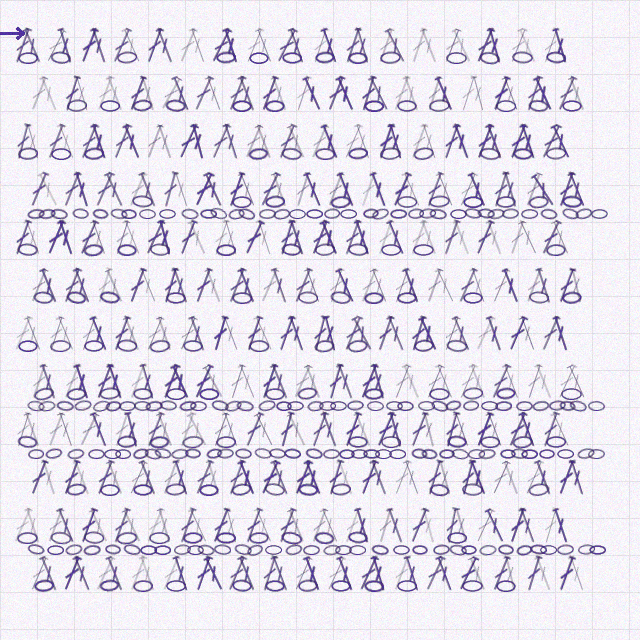chain: (280, 530, 303, 546), (33, 386, 55, 402), (528, 482, 550, 497), (413, 146, 434, 161), (66, 290, 87, 305), (99, 290, 120, 305), (330, 290, 351, 305), (297, 386, 318, 401), (66, 482, 87, 497), (231, 482, 252, 497), (264, 482, 285, 497), (479, 147, 501, 161), (149, 339, 171, 353), (446, 339, 468, 353), (182, 435, 204, 449), (50, 531, 72, 545), (116, 531, 138, 545), (479, 51, 500, 65), (528, 99, 549, 113), (248, 147, 269, 161), (281, 147, 302, 161), (330, 195, 351, 209), (528, 195, 549, 209), (83, 243, 104, 257), (314, 339, 335, 353), (347, 339, 368, 353), (66, 387, 87, 401), (17, 435, 38, 449), (149, 435, 170, 449), (512, 435, 533, 449), (429, 483, 450, 497), (314, 531, 335, 545), (99, 387, 121, 400), (209, 206, 228, 221), (50, 51, 71, 64), (380, 51, 401, 64), (512, 51, 533, 64), (132, 99, 153, 112), (165, 99, 186, 112), (429, 99, 450, 112), (380, 147, 401, 160), (132, 195, 153, 208), (429, 195, 450, 208), (17, 243, 38, 256), (281, 243, 302, 256), (33, 291, 54, 304), (165, 483, 186, 496), (462, 483, 483, 496), (99, 579, 120, 592), (237, 207, 256, 221), (371, 207, 390, 221), (561, 207, 580, 221), (92, 399, 111, 413), (224, 399, 243, 413), (430, 399, 449, 413), (117, 51, 137, 64), (216, 51, 236, 64), (315, 51, 335, 64), (546, 51, 566, 64), (67, 99, 87, 112), (18, 147, 38, 160), (84, 147, 104, 160), (348, 147, 368, 160), (546, 147, 566, 160), (265, 195, 285, 208), (562, 195, 582, 208), (150, 243, 170, 256), (315, 243, 335, 256), (348, 243, 368, 256), (298, 291, 318, 304), (529, 291, 549, 304), (562, 291, 582, 304), (117, 339, 137, 352), (414, 339, 434, 352), (463, 387, 483, 400), (496, 387, 516, 400), (117, 435, 137, 448), (447, 435, 467, 448), (298, 483, 318, 496), (331, 483, 351, 496), (84, 531, 104, 544), (348, 531, 368, 544), (34, 579, 54, 592), (232, 579, 252, 592), (298, 579, 318, 592), (446, 52, 467, 64), (413, 244, 434, 256), (50, 340, 71, 352), (429, 388, 450, 400), (561, 388, 582, 400), (569, 399, 587, 413), (144, 447, 162, 461), (17, 532, 38, 544), (149, 532, 170, 544), (246, 543, 264, 557), (462, 580, 483, 592), (18, 52, 38, 64), (249, 52, 269, 64), (282, 52, 302, 64), (348, 52, 368, 64), (100, 100, 120, 112), (232, 100, 252, 112), (265, 100, 285, 112), (364, 100, 384, 112), (397, 100, 417, 112), (496, 100, 516, 112), (562, 100, 582, 112), (51, 148, 71, 160), (315, 148, 335, 160), (513, 148, 533, 160), (232, 196, 252, 208), (397, 196, 417, 208), (463, 196, 483, 208), (496, 196, 516, 208), (117, 244, 137, 256), (216, 244, 236, 256), (381, 244, 401, 256), (546, 244, 566, 256), (166, 292, 186, 304), (232, 292, 252, 304), (364, 292, 384, 304), (397, 292, 417, 304), (463, 292, 483, 304), (18, 340, 38, 352), (84, 340, 104, 352), (183, 340, 203, 352), (249, 340, 269, 352), (133, 388, 153, 400), (166, 388, 186, 400), (199, 388, 219, 400), (265, 388, 285, 400), (364, 388, 384, 400), (216, 436, 236, 448), (348, 436, 368, 448), (381, 436, 401, 448), (480, 436, 500, 448), (546, 436, 566, 448), (100, 484, 120, 496), (133, 484, 153, 496), (199, 484, 219, 496), (183, 532, 203, 544), (216, 532, 236, 544), (249, 532, 269, 544), (447, 532, 467, 544), (133, 580, 153, 592), (166, 580, 186, 592), (265, 580, 285, 592), (331, 580, 351, 592), (364, 580, 384, 592), (397, 580, 417, 592), (496, 580, 516, 592), (464, 207, 482, 220), (575, 207, 593, 220), (74, 399, 92, 412), (211, 399, 229, 412), (258, 399, 276, 412), (45, 447, 63, 460), (132, 447, 150, 460), (154, 447, 172, 460), (254, 447, 272, 460), (305, 447, 323, 460), (577, 447, 595, 460), (27, 543, 45, 556), (65, 543, 83, 556), (123, 543, 141, 556), (234, 543, 252, 556), (285, 543, 303, 556), (445, 399, 462, 412), (206, 447, 223, 460), (27, 208, 45, 220), (38, 208, 56, 220), (50, 208, 68, 220), (110, 208, 128, 220), (181, 208, 199, 220), (273, 208, 291, 220), (429, 208, 447, 220), (487, 208, 505, 220), (540, 208, 558, 220), (27, 400, 45, 412), (38, 400, 56, 412), (56, 400, 74, 412), (145, 400, 163, 412), (179, 400, 197, 412), (236, 400, 254, 412), (532, 400, 550, 412), (67, 448, 85, 460), (171, 448, 189, 460), (451, 448, 469, 460), (478, 448, 496, 460), (83, 544, 101, 556), (197, 544, 215, 556), (323, 544, 341, 556), (371, 544, 389, 556), (449, 544, 467, 556), (479, 544, 497, 556), (92, 208, 109, 220), (228, 208, 245, 220), (105, 400, 122, 412), (307, 400, 324, 412), (559, 400, 576, 412), (421, 448, 438, 460), (516, 544, 533, 556), (477, 208, 495, 219), (72, 208, 89, 219), (419, 208, 436, 219), (502, 208, 519, 219), (160, 400, 177, 411), (347, 400, 364, 411), (549, 400, 566, 411), (217, 448, 234, 459), (235, 448, 252, 459), (269, 448, 286, 459), (284, 448, 301, 459), (411, 448, 428, 459), (511, 448, 528, 459), (174, 544, 191, 555), (214, 544, 231, 555), (433, 544, 450, 555), (530, 544, 547, 555), (557, 544, 574, 555), (578, 544, 595, 555), (324, 208, 340, 219), (363, 208, 379, 219), (408, 208, 424, 219), (463, 400, 479, 411), (185, 448, 201, 459), (105, 544, 121, 555), (498, 544, 514, 555), (139, 209, 156, 219), (159, 209, 176, 219), (200, 209, 217, 219), (259, 209, 276, 219), (289, 209, 306, 219), (306, 209, 323, 219), (340, 209, 357, 219), (390, 209, 407, 219), (450, 209, 467, 219), (521, 209, 538, 219), (591, 209, 608, 219), (119, 401, 136, 411), (134, 401, 151, 411), (190, 401, 207, 411), (287, 401, 304, 411), (319, 401, 336, 411), (330, 401, 347, 411), (367, 401, 384, 411), (386, 401, 403, 411), (397, 401, 414, 411), (418, 401, 435, 411), (481, 401, 498, 411), (495, 401, 512, 411), (516, 401, 533, 411), (588, 401, 605, 411), (88, 449, 105, 459), (104, 449, 121, 459), (323, 449, 340, 459), (351, 449, 368, 459), (363, 449, 380, 459), (375, 449, 392, 459), (389, 449, 406, 459), (468, 449, 485, 459), (521, 449, 538, 459), (557, 449, 574, 459), (588, 449, 605, 459), (47, 545, 64, 555), (140, 545, 157, 555), (154, 545, 171, 555), (187, 545, 204, 555), (265, 545, 282, 555), (303, 545, 320, 555), (335, 545, 352, 555), (349, 545, 366, 555), (393, 545, 410, 555), (540, 545, 557, 555), (589, 545, 606, 555), (121, 209, 137, 219), (276, 401, 292, 411), (28, 449, 44, 459), (115, 449, 131, 459), (339, 449, 355, 459), (439, 449, 455, 459), (500, 449, 516, 459), (539, 449, 555, 459), (412, 545, 428, 555), (461, 545, 477, 555)
double: (529, 172, 558, 208), (157, 75, 185, 112), (42, 27, 69, 64), (273, 27, 300, 64), (382, 27, 409, 64), (35, 171, 62, 208), (349, 315, 376, 352), (200, 363, 227, 400), (184, 411, 211, 448), (208, 27, 234, 64), (449, 27, 475, 64), (366, 75, 392, 112), (175, 123, 201, 160), (538, 123, 564, 160), (548, 123, 574, 160), (191, 171, 217, 208), (257, 171, 283, 208), (142, 219, 168, 256), (241, 219, 267, 256), (515, 219, 541, 256), (538, 219, 564, 256), (432, 267, 458, 304), (472, 315, 498, 352), (76, 411, 102, 448), (251, 411, 277, 448), (284, 411, 310, 448), (257, 459, 283, 496), (86, 507, 112, 544), (119, 507, 145, 544), (185, 507, 211, 544), (482, 507, 508, 544), (92, 555, 118, 592), (201, 555, 227, 592), (422, 555, 448, 592), (455, 555, 481, 592), (20, 27, 45, 64), (109, 27, 134, 64), (119, 27, 144, 64), (515, 27, 540, 64), (191, 75, 216, 112), (300, 75, 325, 112), (333, 75, 358, 112), (432, 75, 457, 112), (531, 75, 556, 112), (554, 75, 579, 112), (208, 123, 233, 160), (241, 123, 266, 160), (284, 123, 309, 160), (307, 123, 332, 160), (340, 123, 365, 160), (92, 171, 117, 208), (102, 171, 127, 208), (125, 171, 150, 208), (201, 171, 226, 208), (389, 171, 414, 208), (399, 171, 424, 208), (455, 171, 480, 208), (465, 171, 490, 208), (76, 219, 101, 256), (185, 219, 210, 256), (317, 219, 342, 256), (472, 219, 497, 256), (548, 219, 573, 256), (102, 267, 127, 304), (257, 267, 282, 304), (333, 267, 358, 304), (455, 267, 480, 304), (488, 267, 513, 304), (53, 315, 78, 352), (142, 315, 167, 352), (175, 315, 200, 352), (251, 315, 276, 352), (416, 315, 441, 352), (449, 315, 474, 352), (505, 315, 530, 352), (538, 315, 563, 352), (168, 363, 193, 400), (191, 363, 216, 400), (290, 363, 315, 400), (399, 363, 424, 400), (422, 363, 447, 400), (432, 363, 457, 400), (455, 363, 480, 400), (488, 363, 513, 400), (554, 363, 579, 400), (564, 363, 589, 400), (373, 411, 398, 448), (505, 411, 530, 448), (548, 411, 573, 448), (125, 459, 150, 496), (488, 459, 513, 496), (521, 459, 546, 496), (10, 507, 35, 544), (251, 507, 276, 544), (284, 507, 309, 544), (317, 507, 342, 544), (472, 507, 497, 544), (26, 555, 51, 592), (224, 555, 249, 592), (290, 555, 315, 592), (323, 555, 348, 592), (356, 555, 381, 592), (465, 555, 490, 592), (77, 27, 101, 64), (153, 27, 177, 64), (176, 27, 200, 64), (242, 27, 266, 64), (252, 27, 276, 64), (417, 27, 441, 64), (440, 27, 464, 64), (473, 27, 497, 64), (506, 27, 530, 64), (27, 75, 51, 112), (37, 75, 61, 112), (93, 75, 117, 112), (103, 75, 127, 112), (169, 75, 193, 112), (225, 75, 249, 112), (235, 75, 259, 112), (324, 75, 348, 112), (489, 75, 513, 112), (565, 75, 589, 112), (44, 123, 68, 160), (54, 123, 78, 160), (77, 123, 101, 160), (110, 123, 134, 160), (120, 123, 144, 160), (252, 123, 276, 160), (275, 123, 299, 160), (318, 123, 342, 160), (407, 123, 431, 160), (473, 123, 497, 160), (506, 123, 530, 160), (27, 171, 51, 208), (60, 171, 84, 208), (136, 171, 160, 208), (235, 171, 259, 208), (301, 171, 325, 208), (334, 171, 358, 208), (433, 171, 457, 208), (565, 171, 589, 208), (44, 219, 68, 256), (120, 219, 144, 256), (176, 219, 200, 256), (308, 219, 332, 256), (384, 219, 408, 256), (417, 219, 441, 256), (450, 219, 474, 256), (27, 267, 51, 304), (37, 267, 61, 304), (60, 267, 84, 304), (70, 267, 94, 304), (136, 267, 160, 304), (225, 267, 249, 304), (235, 267, 259, 304), (291, 267, 315, 304), (357, 267, 381, 304), (367, 267, 391, 304), (499, 267, 523, 304), (522, 267, 546, 304), (11, 315, 35, 352), (21, 315, 45, 352), (87, 315, 111, 352), (120, 315, 144, 352), (341, 315, 365, 352), (384, 315, 408, 352), (60, 363, 84, 400), (159, 363, 183, 400), (235, 363, 259, 400), (268, 363, 292, 400), (301, 363, 325, 400), (357, 363, 381, 400), (390, 363, 414, 400), (466, 363, 490, 400), (499, 363, 523, 400), (532, 363, 556, 400), (44, 411, 68, 448), (87, 411, 111, 448), (143, 411, 167, 448), (153, 411, 177, 448), (242, 411, 266, 448), (351, 411, 375, 448), (407, 411, 431, 448), (27, 459, 51, 496), (70, 459, 94, 496), (93, 459, 117, 496), (103, 459, 127, 496), (136, 459, 160, 496), (192, 459, 216, 496), (235, 459, 259, 496), (268, 459, 292, 496), (291, 459, 315, 496), (301, 459, 325, 496), (357, 459, 381, 496), (367, 459, 391, 496), (390, 459, 414, 496), (466, 459, 490, 496), (499, 459, 523, 496), (54, 507, 78, 544), (143, 507, 167, 544), (209, 507, 233, 544), (275, 507, 299, 544), (407, 507, 431, 544), (37, 555, 61, 592), (60, 555, 84, 592), (70, 555, 94, 592), (103, 555, 127, 592), (126, 555, 150, 592), (159, 555, 183, 592), (235, 555, 259, 592), (268, 555, 292, 592), (489, 555, 513, 592), (11, 27, 34, 64), (143, 27, 166, 64), (186, 27, 209, 64), (285, 27, 308, 64), (318, 27, 341, 64), (539, 27, 562, 64), (126, 75, 149, 112), (202, 75, 225, 112), (258, 75, 281, 112), (268, 75, 291, 112), (390, 75, 413, 112), (400, 75, 423, 112), (499, 75, 522, 112), (143, 123, 166, 160), (351, 123, 374, 160), (440, 123, 463, 160), (450, 123, 473, 160), (483, 123, 506, 160), (225, 171, 248, 208), (268, 171, 291, 208), (324, 171, 347, 208), (357, 171, 380, 208), (367, 171, 390, 208), (423, 171, 446, 208), (522, 171, 545, 208), (555, 171, 578, 208), (11, 219, 34, 256), (21, 219, 44, 256), (87, 219, 110, 256), (341, 219, 364, 256), (351, 219, 374, 256), (374, 219, 397, 256), (407, 219, 430, 256), (440, 219, 463, 256), (483, 219, 506, 256), (506, 219, 529, 256), (126, 267, 149, 304), (169, 267, 192, 304), (192, 267, 215, 304), (202, 267, 225, 304), (268, 267, 291, 304), (301, 267, 324, 304), (390, 267, 413, 304), (400, 267, 423, 304), (423, 267, 446, 304), (555, 267, 578, 304), (77, 315, 100, 352), (110, 315, 133, 352), (153, 315, 176, 352), (186, 315, 209, 352), (219, 315, 242, 352), (275, 315, 298, 352), (285, 315, 308, 352), (374, 315, 397, 352), (440, 315, 463, 352), (483, 315, 506, 352), (516, 315, 539, 352), (37, 363, 60, 400), (93, 363, 116, 400), (126, 363, 149, 400), (258, 363, 281, 400), (334, 363, 357, 400), (21, 411, 44, 448), (54, 411, 77, 448), (176, 411, 199, 448), (209, 411, 232, 448), (219, 411, 242, 448), (308, 411, 331, 448), (318, 411, 341, 448), (341, 411, 364, 448), (450, 411, 473, 448), (473, 411, 496, 448), (483, 411, 506, 448), (516, 411, 539, 448), (539, 411, 562, 448), (60, 459, 83, 496), (159, 459, 182, 496), (225, 459, 248, 496), (334, 459, 357, 496), (400, 459, 423, 496), (532, 459, 555, 496), (555, 459, 578, 496), (44, 507, 67, 544), (77, 507, 100, 544), (110, 507, 133, 544), (176, 507, 199, 544), (242, 507, 265, 544), (308, 507, 331, 544), (341, 507, 364, 544), (384, 507, 407, 544), (506, 507, 529, 544), (516, 507, 539, 544), (136, 555, 159, 592), (192, 555, 215, 592), (301, 555, 324, 592), (334, 555, 357, 592), (390, 555, 413, 592), (433, 555, 456, 592), (532, 555, 555, 592), (555, 555, 578, 592), (565, 555, 588, 592), (88, 27, 110, 64), (220, 27, 242, 64), (309, 27, 331, 64), (342, 27, 364, 64), (375, 27, 397, 64), (408, 27, 430, 64), (61, 75, 83, 112), (137, 75, 159, 112), (292, 75, 314, 112), (457, 75, 479, 112), (523, 75, 545, 112), (88, 123, 110, 160), (154, 123, 176, 160), (220, 123, 242, 160), (375, 123, 397, 160), (418, 123, 440, 160), (517, 123, 539, 160), (71, 171, 93, 208), (170, 171, 192, 208), (292, 171, 314, 208), (490, 171, 512, 208), (55, 219, 77, 256), (111, 219, 133, 256), (210, 219, 232, 256), (253, 219, 275, 256), (276, 219, 298, 256), (286, 219, 308, 256), (325, 267, 347, 304), (467, 267, 489, 304), (533, 267, 555, 304), (45, 315, 67, 352), (243, 315, 265, 352), (550, 315, 572, 352), (28, 363, 50, 400), (71, 363, 93, 400), (104, 363, 126, 400), (226, 363, 248, 400), (523, 363, 545, 400), (12, 411, 34, 448), (111, 411, 133, 448), (38, 459, 60, 496), (170, 459, 192, 496), (566, 459, 588, 496), (22, 507, 44, 544), (550, 507, 572, 544), (170, 555, 192, 592), (401, 555, 423, 592), (523, 555, 545, 592), (55, 27, 76, 64), (352, 27, 373, 64), (484, 27, 505, 64), (550, 27, 571, 64), (71, 75, 92, 112), (358, 75, 379, 112), (424, 75, 445, 112), (22, 123, 43, 160), (385, 123, 406, 160), (160, 171, 181, 208), (500, 171, 521, 208), (220, 219, 241, 256), (94, 267, 115, 304), (160, 267, 181, 304), (210, 315, 231, 352), (408, 315, 429, 352), (137, 363, 158, 400), (325, 363, 346, 400), (368, 363, 389, 400), (385, 411, 406, 448), (203, 459, 224, 496), (325, 459, 346, 496), (424, 459, 445, 496), (154, 507, 175, 544), (352, 507, 373, 544), (375, 507, 396, 544), (418, 507, 439, 544), (451, 507, 472, 544), (540, 507, 561, 544), (259, 555, 280, 592), (368, 555, 389, 592), (468, 75, 488, 112), (13, 123, 33, 160), (188, 123, 208, 160), (155, 219, 175, 256), (310, 315, 330, 352), (320, 315, 340, 352), (122, 411, 142, 448), (277, 411, 297, 448), (419, 411, 439, 448), (442, 411, 462, 448), (435, 459, 455, 496), (458, 459, 478, 496), (221, 507, 241, 544), (567, 267, 586, 304), (501, 555, 520, 592), (443, 507, 461, 544)
noise: (0, 26, 27, 40)
